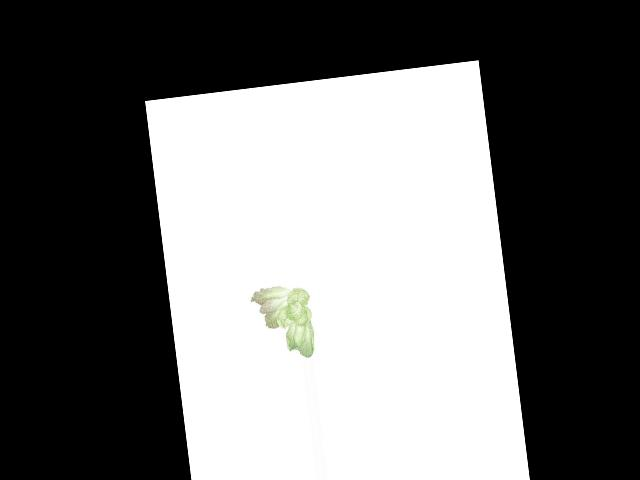lettuce: (245, 280, 321, 364)
